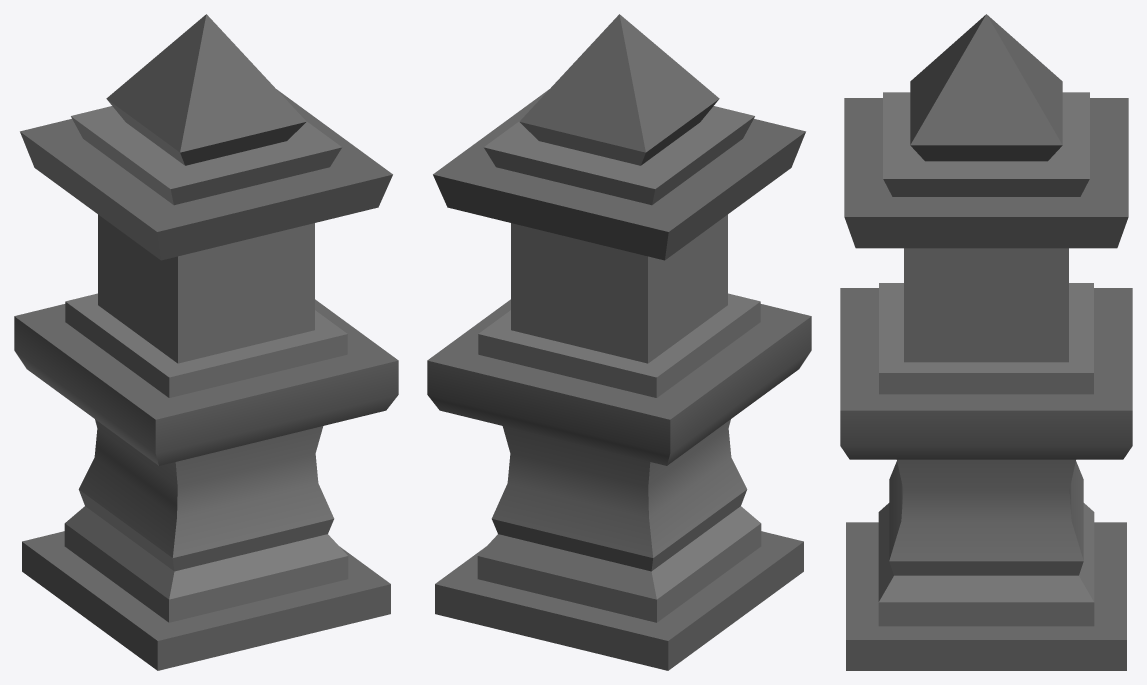
The model's file is lantern5.fbx.
The picture shows the model from 3 angles, left to right: view 1: azimuth 30°, elevation 25°; view 2: azimuth 150°, elevation 25°; view 3: azimuth 270°, elevation 25°; orthographic projection. The views are drawn at different scales.
Parts seen in each view (by area): view 1: lantern5; view 2: lantern5; view 3: lantern5.
Boxes of the visible parts, x1,y1,x2,y2 form: lantern5: (14,14,398,670); lantern5: (427,14,811,670); lantern5: (840,14,1132,670).
Size of the model in its own units: 108 by 246 by 109.
